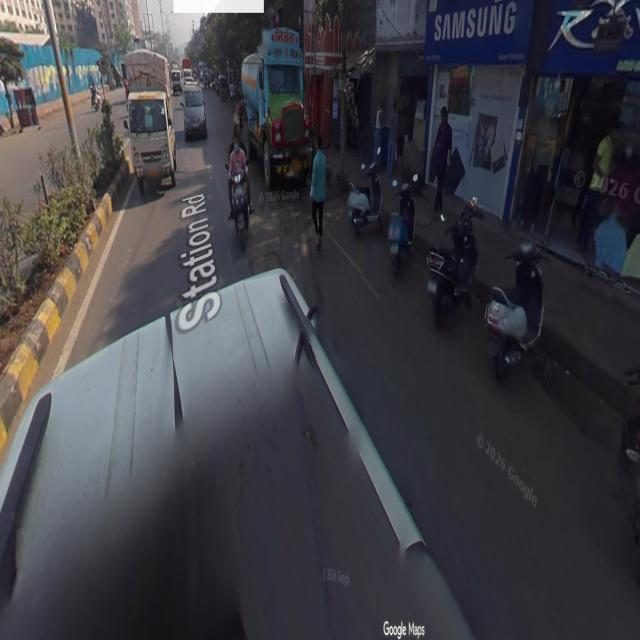Legalparking: (347, 148, 567, 392)
illegalparking: (239, 20, 320, 197)
